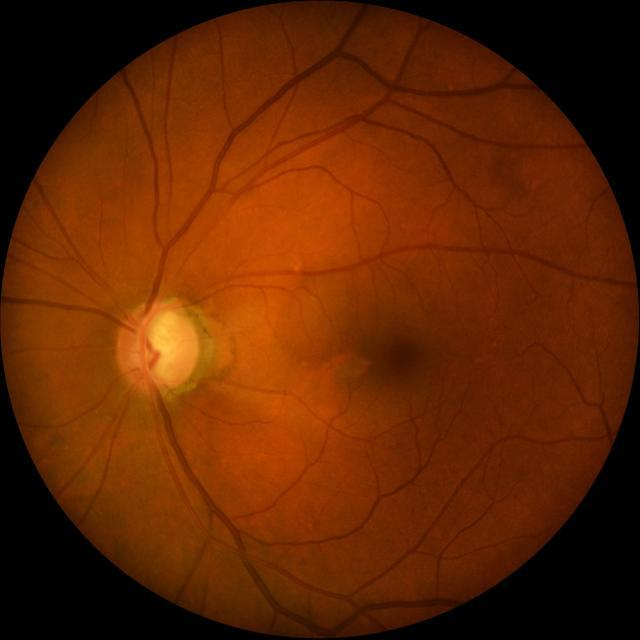OC: (137, 310, 187, 382)
OD: (116, 300, 198, 393)
